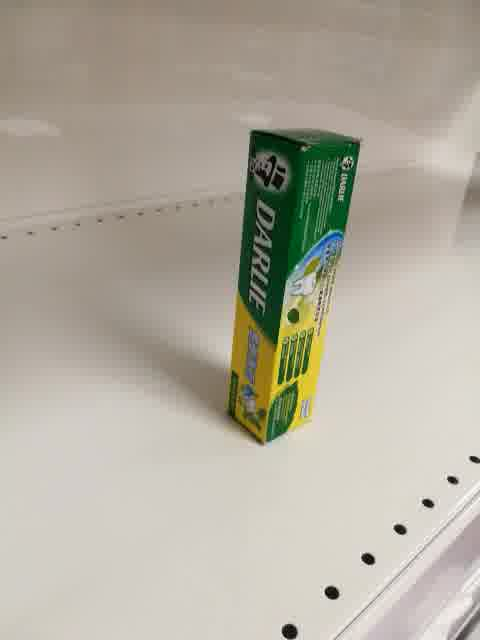toothpaste: (225, 126, 362, 446)
